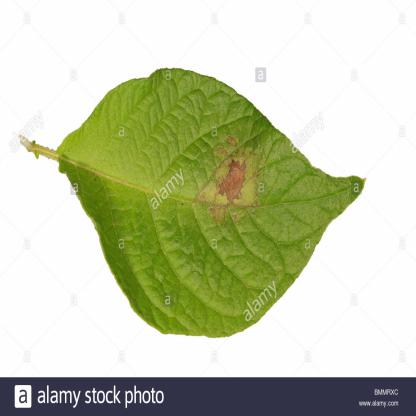Potato leaf early blight: (19, 64, 369, 343)
